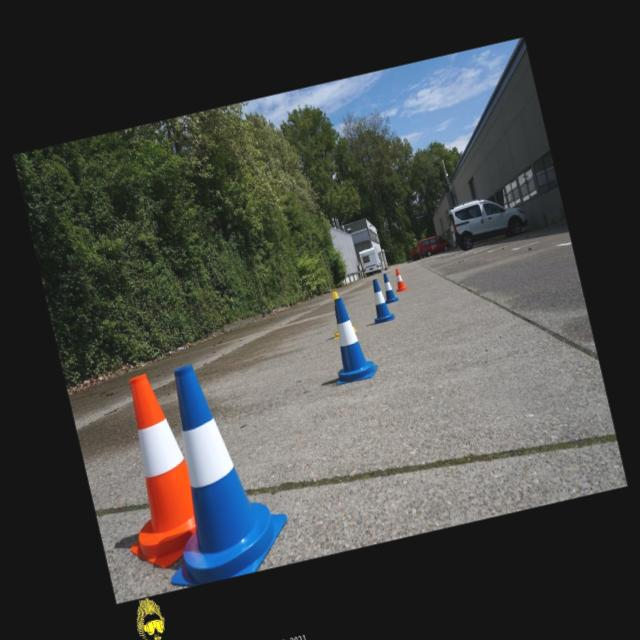blue_cone: (124, 350, 298, 590), (317, 293, 380, 385), (365, 276, 395, 323), (379, 271, 399, 303)
orange_cone: (92, 368, 208, 574), (392, 266, 408, 292)
yellow_cone: (323, 288, 357, 339)
